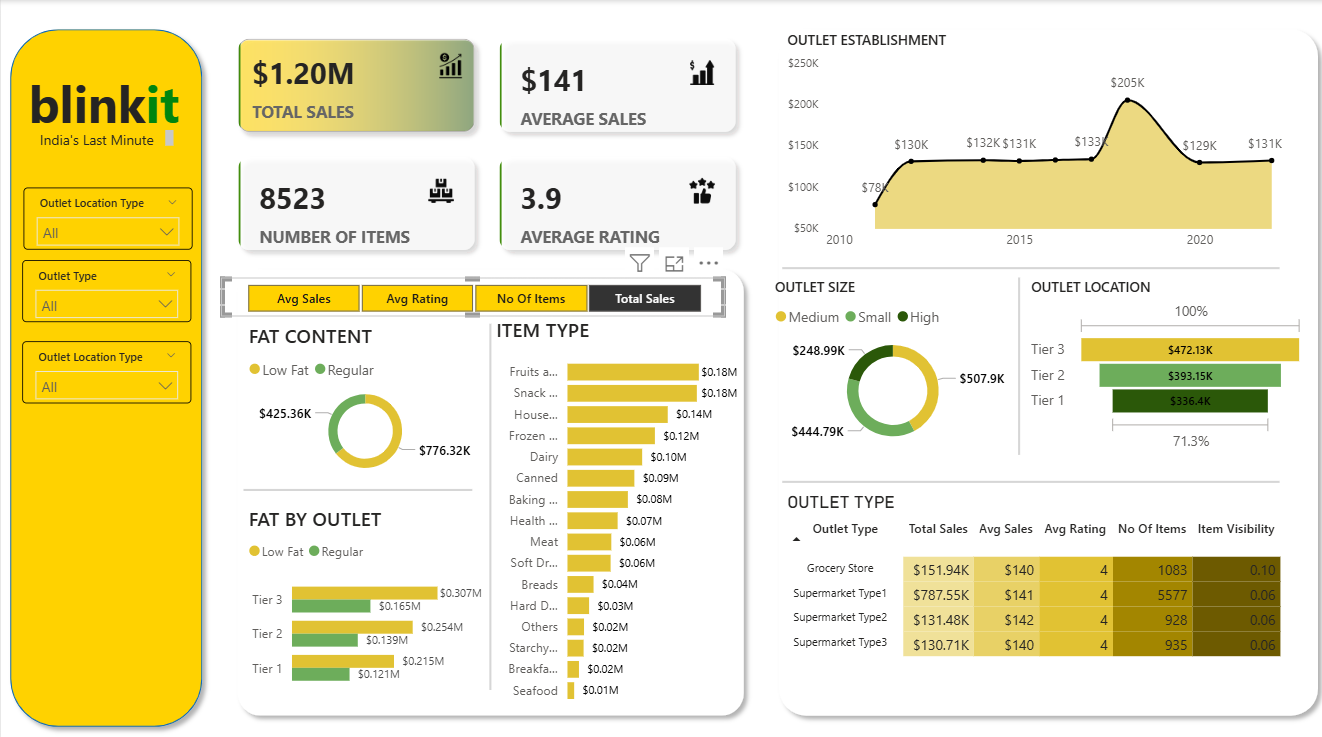

What the dashboard file says about the page in this screenshot:
{"tool":"powerbi","page":{"name":"Page 1","canvas":[1280,720],"ordinal":0},"visuals":[{"type":"shape","box":[0,18.7,203.5,690.9],"z":0},{"type":"cardVisual","fields":{"Data":["Measures (2).TotalSales","Measures (2).AverageSales","Measures (2).Number of items","Measures (2).Average Rating"]},"box":[211.8,20,514.1,238.8],"z":1000},{"type":"shape","box":[219.6,251.1,506.3,448.7],"z":2000},{"type":"shape","box":[742.3,19.6,538.1,680.4],"z":3000},{"type":"textbox","box":[21.4,61.6,163.3,77.7],"z":4000},{"type":"textbox","box":[21.6,120.6,149.5,28.9],"z":5000},{"type":"donutChart","title":"FAT CONTENT","fields":{"Y":["Measures (2).Total Sales"],"Category":["BlinkIT Grocery Data.Item Fat Content"]},"box":[234.1,311.8,235.3,155.3],"z":6000},{"type":"slicer","fields":{"Values":["METRICES.METRICES"]},"box":[212,268,487,37],"z":7000},{"type":"clusteredBarChart","title":"FAT BY OUTLET","fields":{"Y":["Measures (2).Total Sales"],"Category":["BlinkIT Grocery Data.Outlet Location Type"],"Series":["BlinkIT Grocery Data.Item Fat Content"]},"box":[234.1,487.1,235.3,189.4],"z":8000},{"type":"barChart","title":"ITEM TYPE","fields":{"Y":["Measures (2).Total Sales"],"Category":["BlinkIT Grocery Data.Item Type"]},"box":[473,305,243,383],"z":9000},{"type":"lineChart","title":"OUTLET ESTABLISHMENT","fields":{"Y":["Measures (2).Total Sales"],"Category":["BlinkIT Grocery Data.Outlet Establishment Year"]},"box":[754.1,29.4,490.6,221.2],"z":10000},{"type":"donutChart","title":"OUTLET SIZE","fields":{"Y":["Measures (2).Total Sales"],"Category":["BlinkIT Grocery Data.Outlet Size"]},"box":[742.4,268.2,237.6,171.8],"z":11000},{"type":"funnel","title":"OUTLET LOCATION","fields":{"Y":["Measures (2).Total Sales"],"Category":["BlinkIT Grocery Data.Outlet Location Type"]},"box":[989.4,268.2,274.1,171.8],"z":12000},{"type":"pivotTable","title":"OUTLET TYPE","fields":{"Rows":["BlinkIT Grocery Data.Outlet Type"],"Values":["Measures (2).Total Sales","Measures (2).Avg Sales","Measures (2).Avg Rating","Measures (2).No Of Items","Avg(BlinkIT Grocery Data.Item Visibility)"]},"box":[754.1,474.1,509.4,191.8],"z":13000},{"type":"slicer","fields":{"Values":["BlinkIT Grocery Data.Outlet Location Type"]},"box":[21.2,181.2,163.5,60],"z":14000},{"type":"slicer","fields":{"Values":["BlinkIT Grocery Data.Outlet Type"]},"box":[20,250.6,163.5,60],"z":15000},{"type":"slicer","fields":{"Values":["BlinkIT Grocery Data.Outlet Location Type"]},"box":[20,329.4,163.5,60],"z":16000},{"type":"shape","box":[234,466.9,222,12.1],"z":17000},{"type":"shape","box":[456,312.5,32.6,353.5],"z":17001},{"type":"shape","box":[966.4,267.8,32.6,171.3],"z":17002},{"type":"shape","box":[754,249.7,480.2,18.1],"z":17003},{"type":"shape","box":[754,456,480.2,18.1],"z":17004}]}

Visuals, with their boxes in screenshot pixels (x1, y1, x2, y2), scaled from the page's 1280x720 canvas onto the 1322x737 screenshot:
shape: 0/19/210/726
cardVisual - Measures (2).TotalSales x Measures (2).AverageSales: 219/20/750/265
shape: 227/257/750/716
shape: 767/20/1321/717
textbox: 22/63/191/143
textbox: 22/123/177/153
"FAT CONTENT" donutChart: 242/319/485/478
slicer - METRICES.METRICES: 219/274/722/312
"FAT BY OUTLET" clusteredBarChart: 242/499/485/692
"ITEM TYPE" barChart: 489/312/739/704
"OUTLET ESTABLISHMENT" lineChart: 779/30/1286/257
"OUTLET SIZE" donutChart: 767/275/1012/450
"OUTLET LOCATION" funnel: 1022/275/1305/450
"OUTLET TYPE" pivotTable: 779/485/1305/682
slicer - BlinkIT Grocery Data.Outlet Location Type: 22/185/191/247
slicer - BlinkIT Grocery Data.Outlet Type: 21/257/190/318
slicer - BlinkIT Grocery Data.Outlet Location Type: 21/337/190/399
shape: 242/478/471/490
shape: 471/320/505/682
shape: 998/274/1032/449
shape: 779/256/1275/274
shape: 779/467/1275/485
